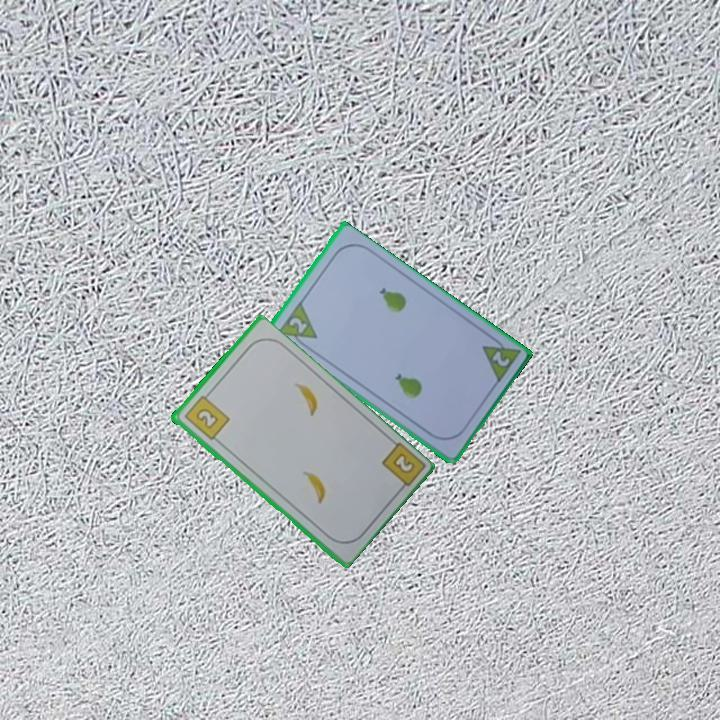2b: (180, 389, 232, 443), (389, 449, 417, 477)
2p: (488, 347, 512, 370), (285, 314, 310, 336)
